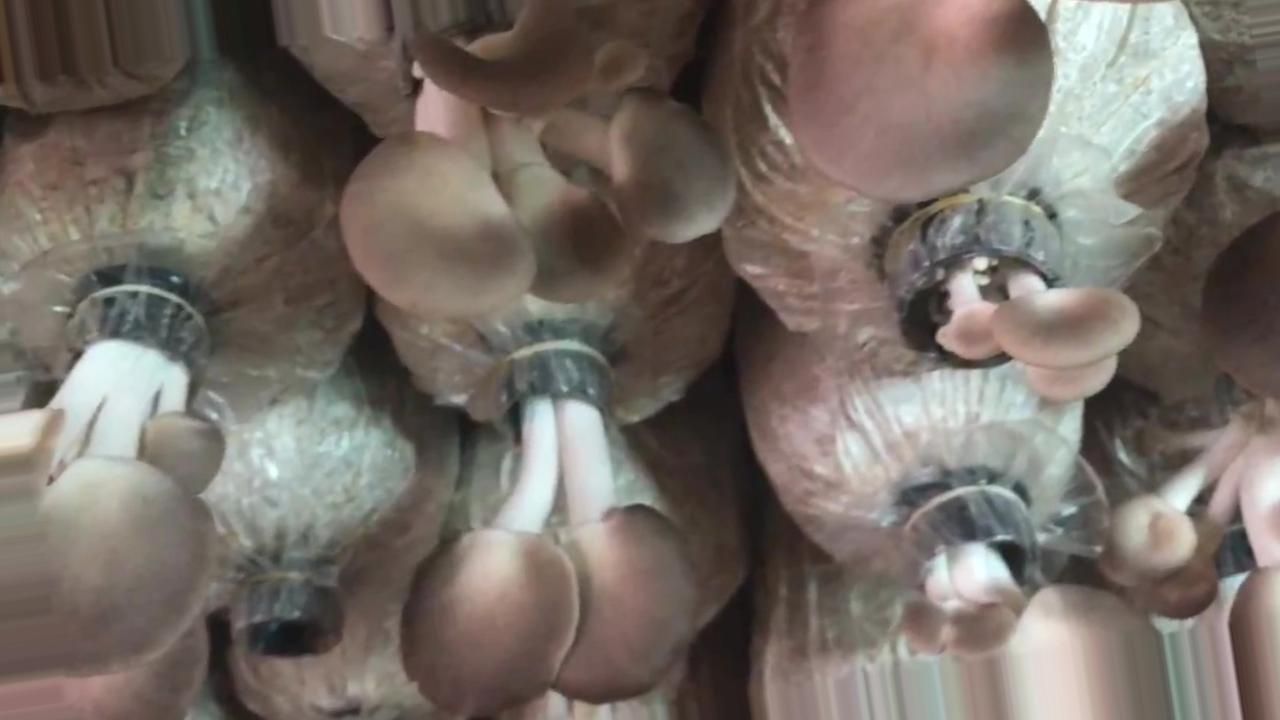nam: (342, 2, 1052, 321), (399, 343, 699, 714), (1, 296, 224, 720), (898, 487, 1165, 720), (893, 205, 1135, 399), (1206, 210, 1280, 392)
